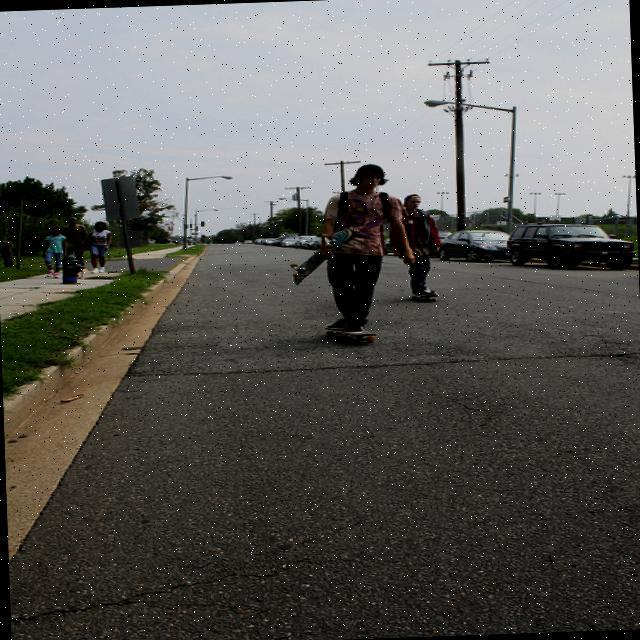fire_hydrant: (56, 252, 85, 283)
